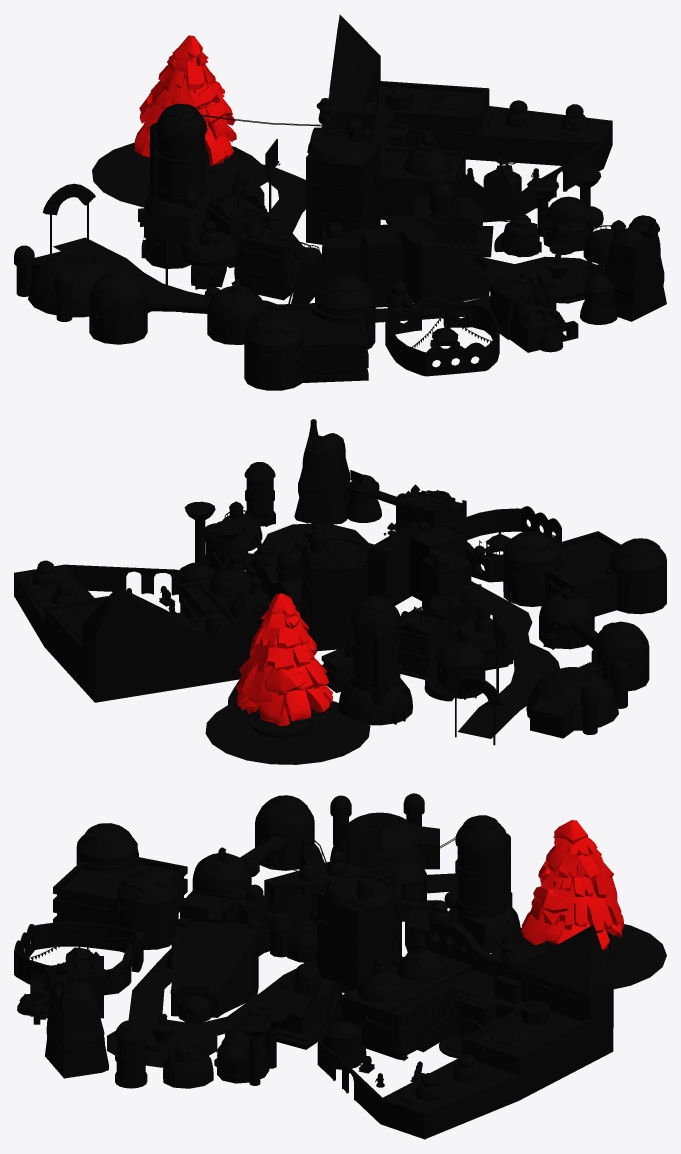
The model's file is Neighborhood_PenguPlazaLocked_03.glb.
3 views of the same model, one above another, from view 1: azimuth 30°, elevation 25°; view 2: azimuth 150°, elevation 25°; view 3: azimuth 270°, elevation 25° (orthographic). The views are drawn at different scales.
Visible parts, largest first — view 1: Neighborhood_PenguPlaza_Locked_03_pasted__PenguPlazaNEW_grou, pasted__pasted__pasted__Tree_17; view 2: Neighborhood_PenguPlaza_Locked_03_pasted__PenguPlazaNEW_grou, pasted__pasted__pasted__Tree_17; view 3: Neighborhood_PenguPlaza_Locked_03_pasted__PenguPlazaNEW_grou, pasted__pasted__pasted__Tree_17.
Part boxes in pixels (<box>): Neighborhood_PenguPlaza_Locked_03_pasted__PenguPlazaNEW_grou: <box>14,14,666,390</box>; pasted__pasted__pasted__Tree_17: <box>134,35,236,166</box>; Neighborhood_PenguPlaza_Locked_03_pasted__PenguPlazaNEW_grou: <box>14,419,666,764</box>; pasted__pasted__pasted__Tree_17: <box>235,593,332,725</box>; Neighborhood_PenguPlaza_Locked_03_pasted__PenguPlazaNEW_grou: <box>14,793,666,1139</box>; pasted__pasted__pasted__Tree_17: <box>520,820,624,949</box>.
Size of the model in its own units: 67.72 by 16.94 by 62.11.
